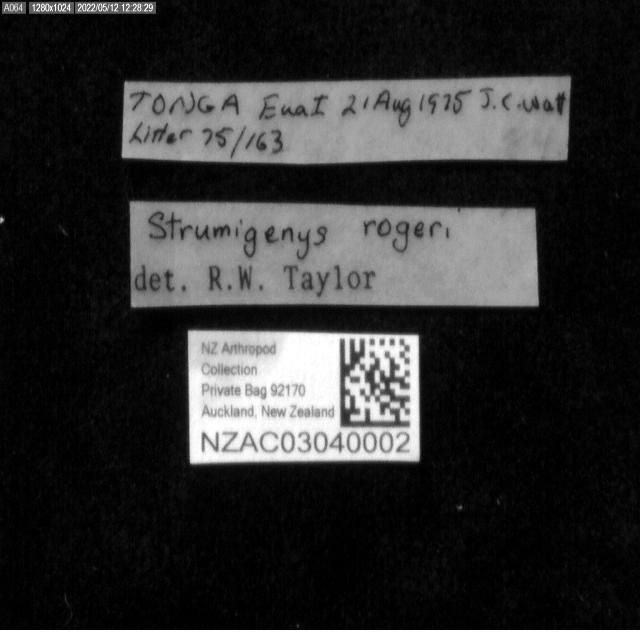hand_label: (122, 77, 570, 164)
mixed_label: (130, 202, 539, 308)
typed_label: (188, 330, 420, 464)
